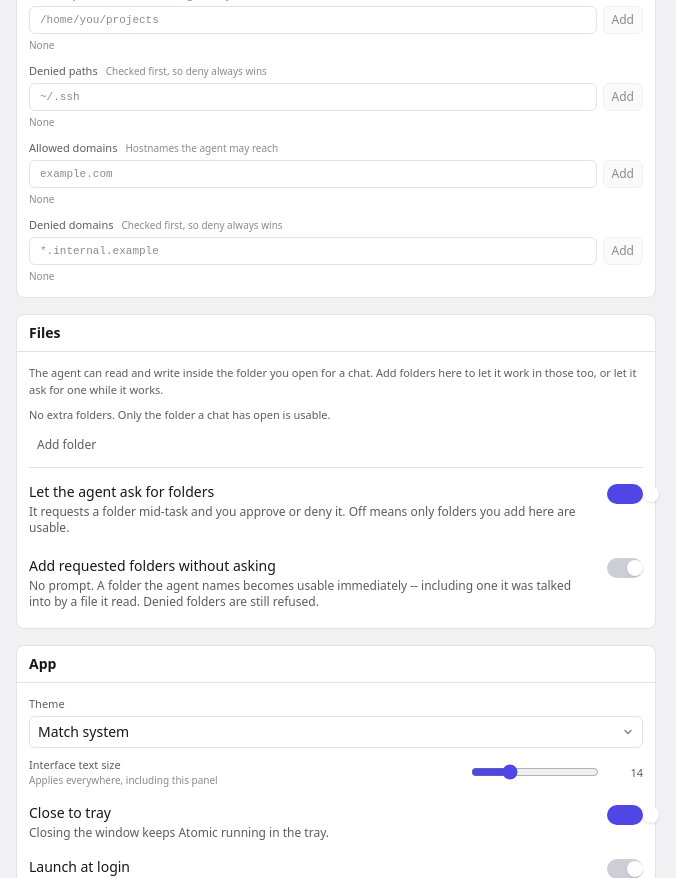
it: folders allowed under Settings > Files › persists a folder the user picked
The image size is (676, 878).
(page scrolled)
Click the button "Add folder": (67, 445) [29, 431, 104, 459]
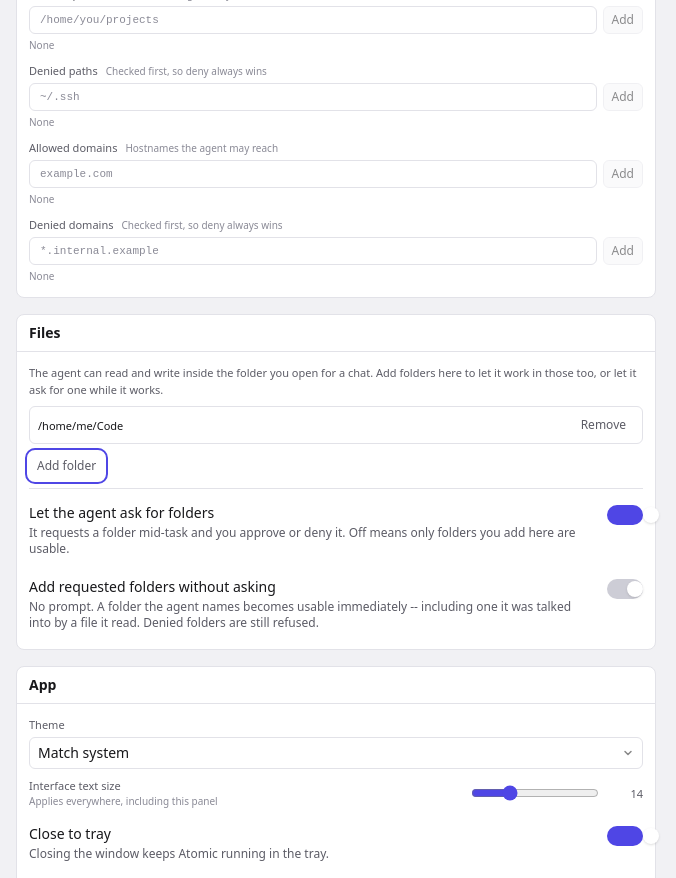
Expected: the text "/home/me/Code" is shown, [38, 418, 123, 432]
